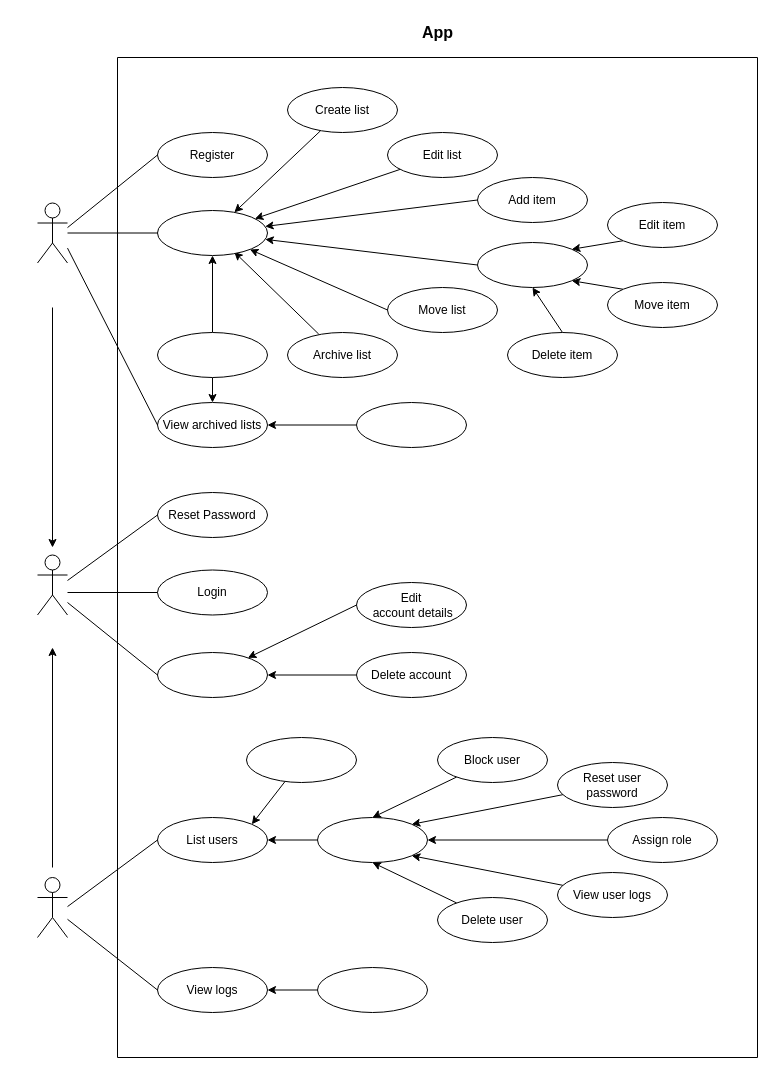
Image size: 775x1075. Some labels were removed from this diagram. Here are the shapes that lost their labels. From the top down, the box of each, then its label:
(36, 202, 68, 263): Regular user
(156, 210, 268, 256): View lists
(476, 242, 588, 288): View item
(156, 332, 268, 378): Delete list
(356, 402, 466, 448): Restore list
(36, 554, 68, 615): User
(156, 652, 268, 698): View account details
(246, 736, 356, 782): Filter users
(316, 816, 428, 862): View user details
(36, 876, 68, 938): Administrator
(316, 966, 428, 1012): View log details
